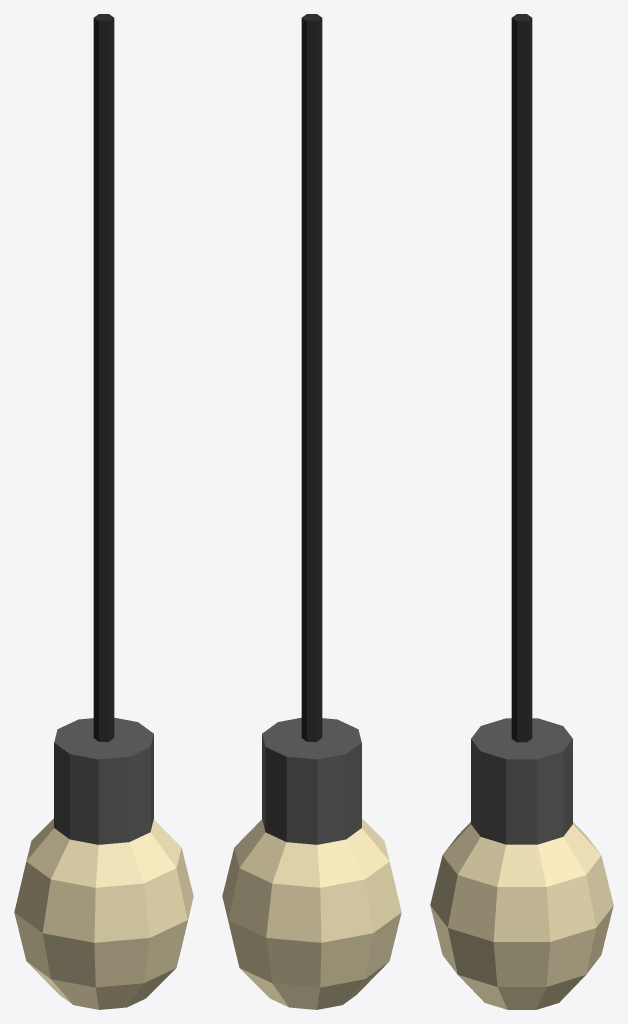
The model's file is lamp_bulb.fbx.
3 renders of one model, left to right at view 1: azimuth 30°, elevation 25°; view 2: azimuth 150°, elevation 25°; view 3: azimuth 270°, elevation 25°, orthographic.
Visible parts, largest first — view 1: lamp_bulb, bulb; view 2: lamp_bulb, bulb; view 3: lamp_bulb, bulb.
Part boxes in pixels (x1,y1,x2,y2): lamp_bulb: (54,14,153,844); bulb: (14,818,193,1009); lamp_bulb: (262,14,361,844); bulb: (222,818,401,1009); lamp_bulb: (471,14,572,844); bulb: (430,822,613,1009).
Size of the model in its own units: 0.0856 by 0.534 by 0.09.
